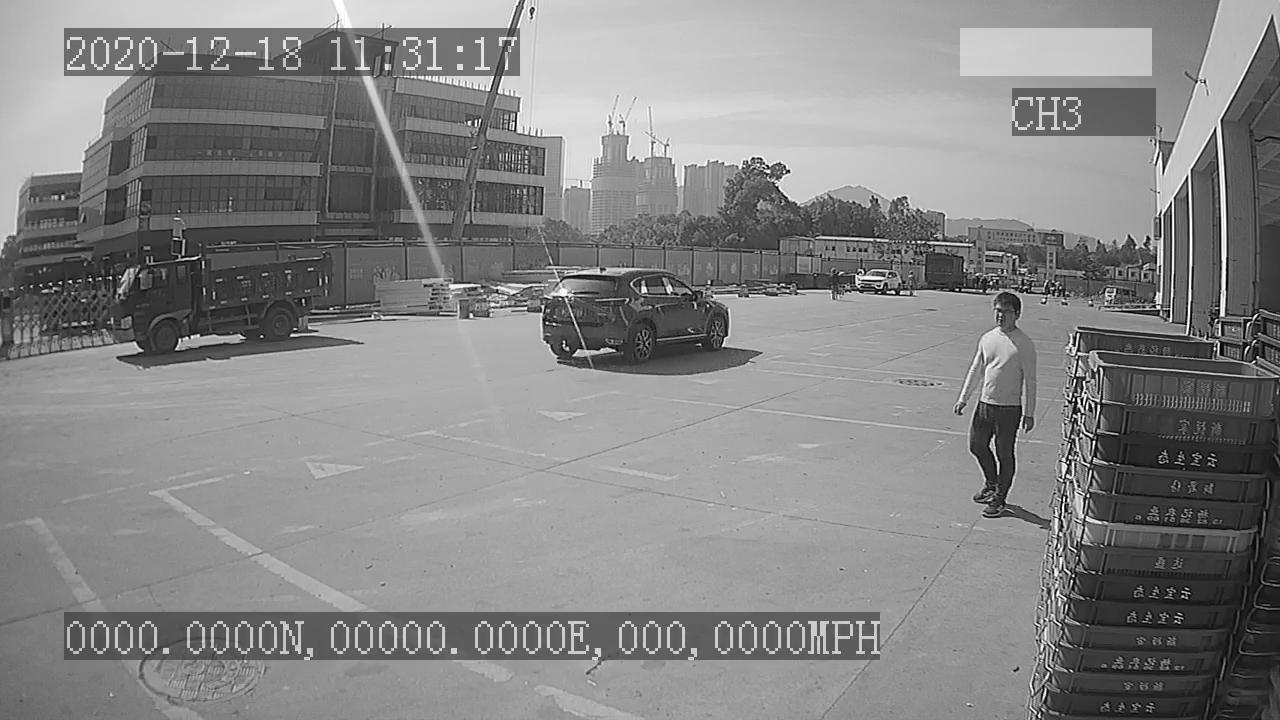person: (952, 291, 1039, 518)
